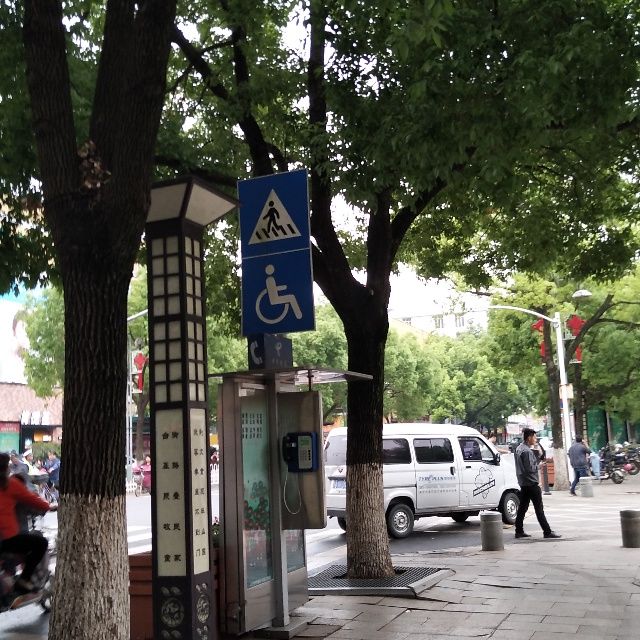crosswalk: (234, 176, 313, 252)
